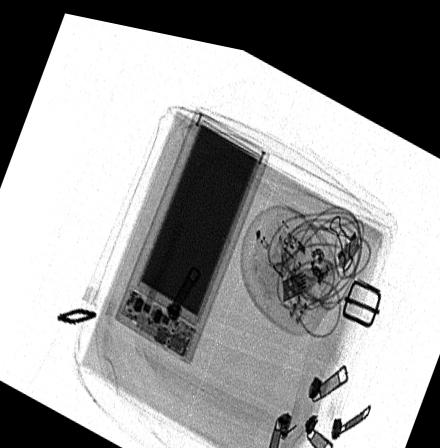Powerbank: (113, 100, 269, 357)
